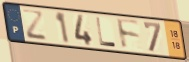1: (55, 11, 71, 45)
4: (74, 13, 94, 48)
7: (143, 21, 164, 55)
F: (115, 17, 142, 51)
L: (94, 16, 118, 49)
Z: (21, 8, 48, 42)
